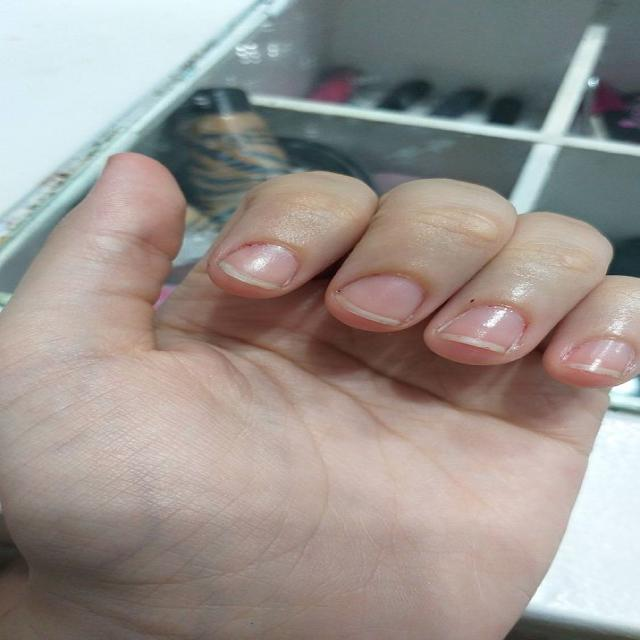Fingernail: (336, 274, 425, 326), (437, 305, 525, 355), (219, 242, 299, 290), (562, 338, 634, 378)
